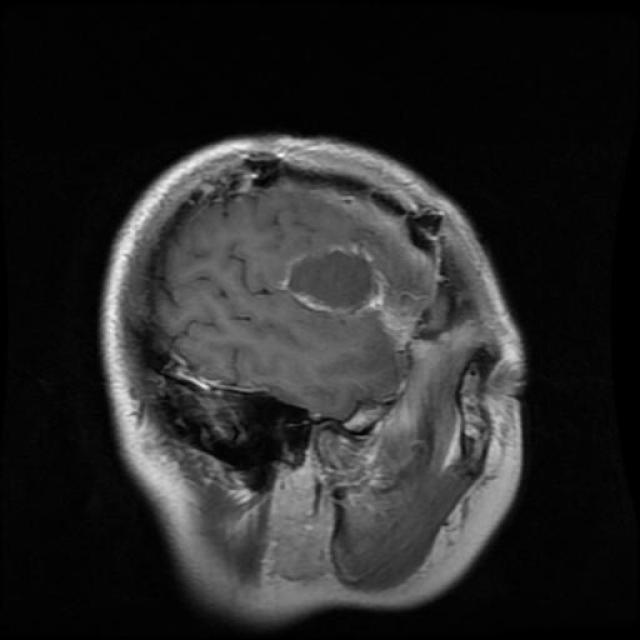Brain-Tumor: (277, 230, 399, 326)
